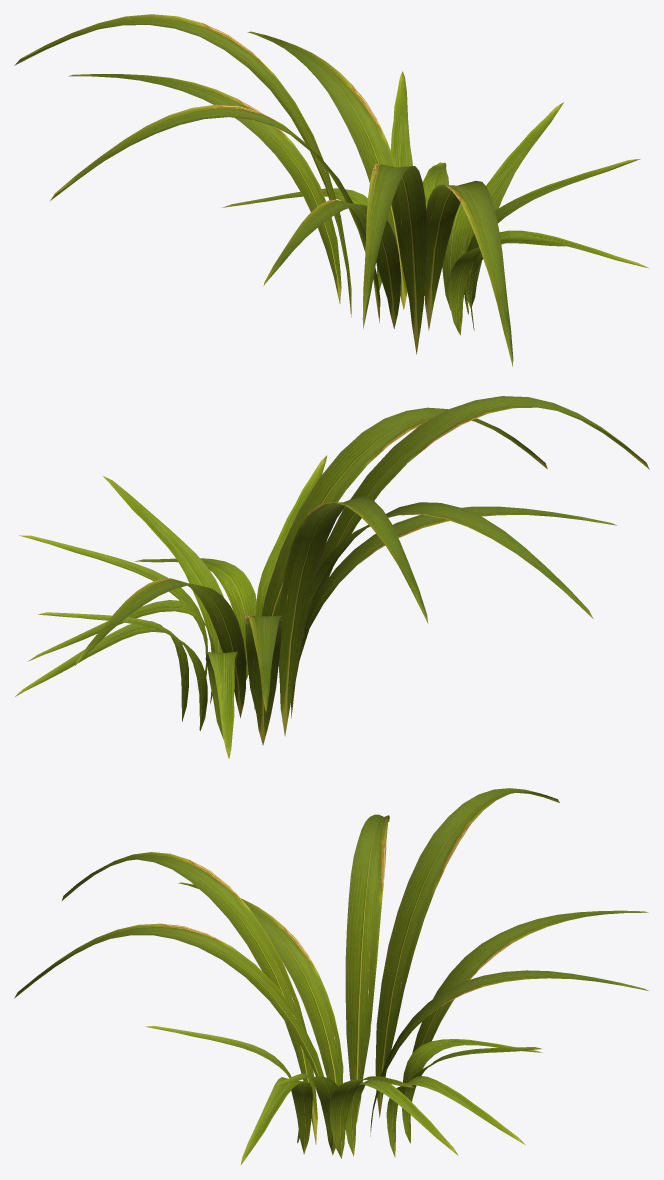
Rendered from Grass.fbx.
The picture shows the model from 3 angles, top to bottom: view 1: azimuth 30°, elevation 25°; view 2: azimuth 150°, elevation 25°; view 3: azimuth 270°, elevation 25°; orthographic projection. The views are drawn at different scales.
Visible parts, largest first — view 1: grid12, grid13, grid3, grid9, grid5, grid6, grid11, grid2, grid16, grid7, grid14, grid17 (+3 smaller); view 2: grid3, grid12, grid13, grid5, grid6, grid9, grid11, grid14, grid8, grid15, grid4, grid2 (+3 smaller); view 3: grid3, grid6, grid12, grid11, grid13, grid9, grid5, grid15, grid17, grid4, grid2, grid8 (+3 smaller).
Boxes of the visible parts, <box> form: grid12: <box>362,163,427,354</box>; grid13: <box>424,181,513,366</box>; grid3: <box>14,14,351,317</box>; grid9: <box>68,74,341,303</box>; grid5: <box>247,31,407,309</box>; grid6: <box>50,104,380,322</box>; grid11: <box>263,199,401,328</box>; grid2: <box>463,102,563,308</box>; grid16: <box>448,238,574,335</box>; grid7: <box>390,71,412,167</box>; grid14: <box>464,159,640,314</box>; grid17: <box>442,185,485,310</box>; grid3: <box>278,496,428,736</box>; grid12: <box>291,396,649,718</box>; grid13: <box>254,407,547,709</box>; grid5: <box>75,578,246,718</box>; grid6: <box>305,502,593,624</box>; grid9: <box>245,615,282,745</box>; grid11: <box>300,506,616,651</box>; grid14: <box>103,476,223,652</box>; grid8: <box>205,651,237,759</box>; grid15: <box>134,558,256,680</box>; grid4: <box>15,621,188,721</box>; grid2: <box>19,535,207,676</box>; grid3: <box>375,788,559,1117</box>; grid6: <box>345,814,389,1122</box>; grid12: <box>62,852,317,1144</box>; grid11: <box>178,882,343,1086</box>; grid13: <box>14,923,323,1076</box>; grid9: <box>412,910,648,1052</box>; grid5: <box>370,970,648,1136</box>; grid15: <box>240,1077,312,1165</box>; grid17: <box>345,1080,458,1156</box>; grid4: <box>386,1076,525,1157</box>; grid2: <box>329,1076,413,1158</box>; grid8: <box>402,1039,542,1094</box>.
Bounding box in the file's own units: 37.92 × 21.05 × 44.23.
2 materials, 2 textured.
